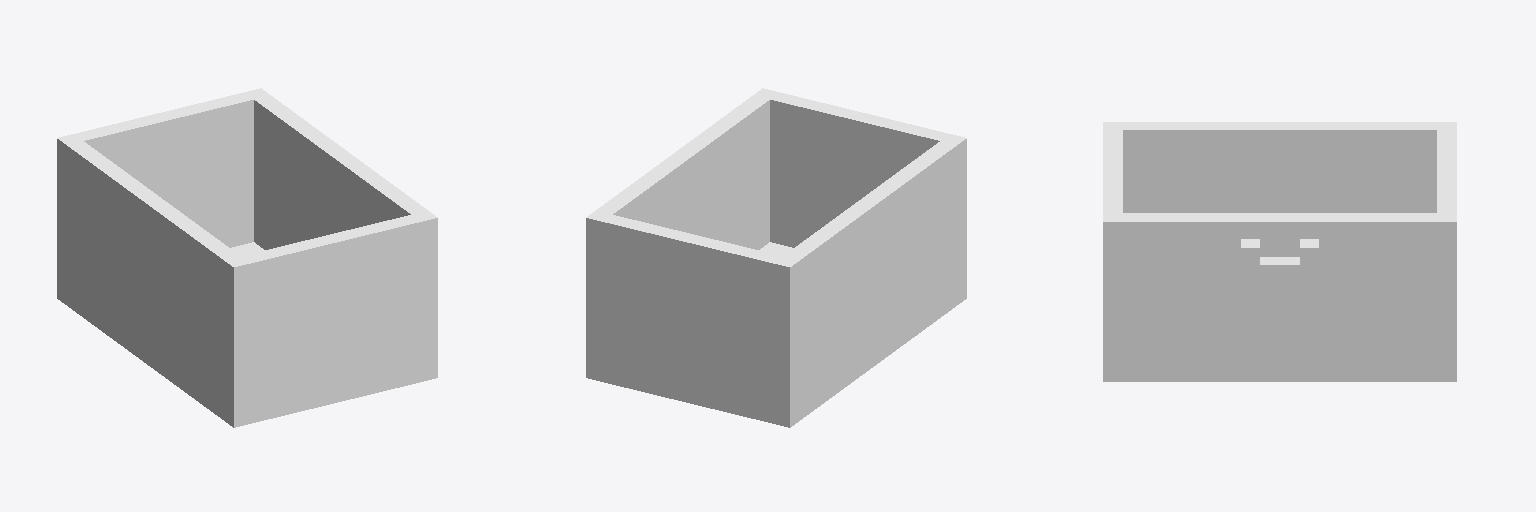
File: KidsRoom-5.obj
The picture shows the model from 3 angles: view 1: azimuth 30°, elevation 25°; view 2: azimuth 150°, elevation 25°; view 3: azimuth 270°, elevation 25°; orthographic projection.
Visible parts, largest first — view 1: object 1; view 2: object 1; view 3: object 1.
Part boxes in pixels (x1,y1,x2,y2): object 1: (57, 88, 437, 427); object 1: (586, 88, 966, 427); object 1: (1103, 122, 1456, 381).
Size of the model in its own units: 1.3 by 0.9 by 1.8.